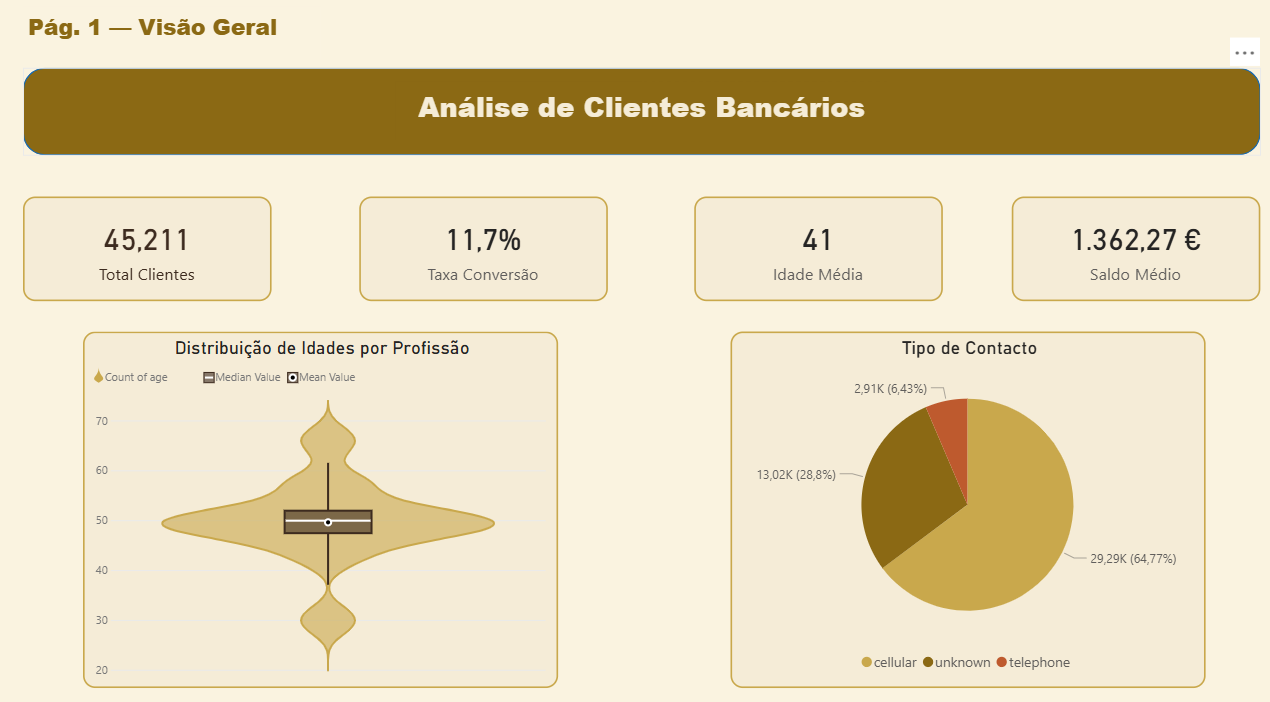

This screenshot's page, from the dashboard's own definition file:
{"tool":"powerbi","page":{"name":"Page 1","canvas":[1280,720],"ordinal":0},"visuals":[{"type":"textbox","box":[34.2,26.9,291,51.4],"z":0},{"type":"shape","title":"ANÁLISE DE CLIENTES BANCÁRIOS","box":[34.2,86.8,1210.6,85.6],"z":1000},{"type":"textbox","box":[398.6,100.3,481.8,57.5],"z":2000},{"type":"card","title":"Total de Clientes","fields":{"Values":["Medidas.Total_Clientes"]},"box":[34.2,212.8,243.4,102.7],"z":3000},{"type":"card","fields":{"Values":["Medidas.Taxa_Conversao"]},"box":[363.2,212.8,243.4,102.7],"z":4000},{"type":"card","fields":{"Values":["Avg(bank-full.age)"]},"box":[691,212.8,243.4,102.7],"z":5000},{"type":"card","fields":{"Values":["Avg(bank-full.balance)"]},"box":[1001.6,212.8,243.4,102.7],"z":6000},{"type":"violinPlot4D46EB9EB3A141D9BA2289793175D971","title":"Distribuição de Idades por Profissão","fields":{"measure":["Count(bank-full.age)"],"sampling":["bank-full.job"]},"box":[92.9,344.9,464.7,348.6],"z":7000},{"type":"pieChart","title":"Tipo de Contacto","fields":{"Category":["bank-full.contact"],"Y":["CountNonNull(bank-full.contact)"]},"box":[726.5,344.9,464.7,348.6],"z":8000}]}

Visuals, with their boxes in screenshot pixels (x1, y1, x2, y2), scaled from the page's 1280x720 canvas onto the 1270x702 screenshot:
textbox: region(34, 26, 323, 76)
"ANÁLISE DE CLIENTES BANCÁRIOS" shape: region(34, 85, 1235, 168)
textbox: region(395, 98, 874, 154)
"Total de Clientes" card: region(34, 207, 275, 308)
card - Medidas.Taxa_Conversao: region(360, 207, 602, 308)
card - Avg(bank-full.age): region(686, 207, 927, 308)
card - Avg(bank-full.balance): region(994, 207, 1235, 308)
"Distribuição de Idades por Profissão" violinPlot4D46EB9EB3A141D9BA2289793175D971: region(92, 336, 553, 676)
"Tipo de Contacto" pieChart: region(721, 336, 1182, 676)
